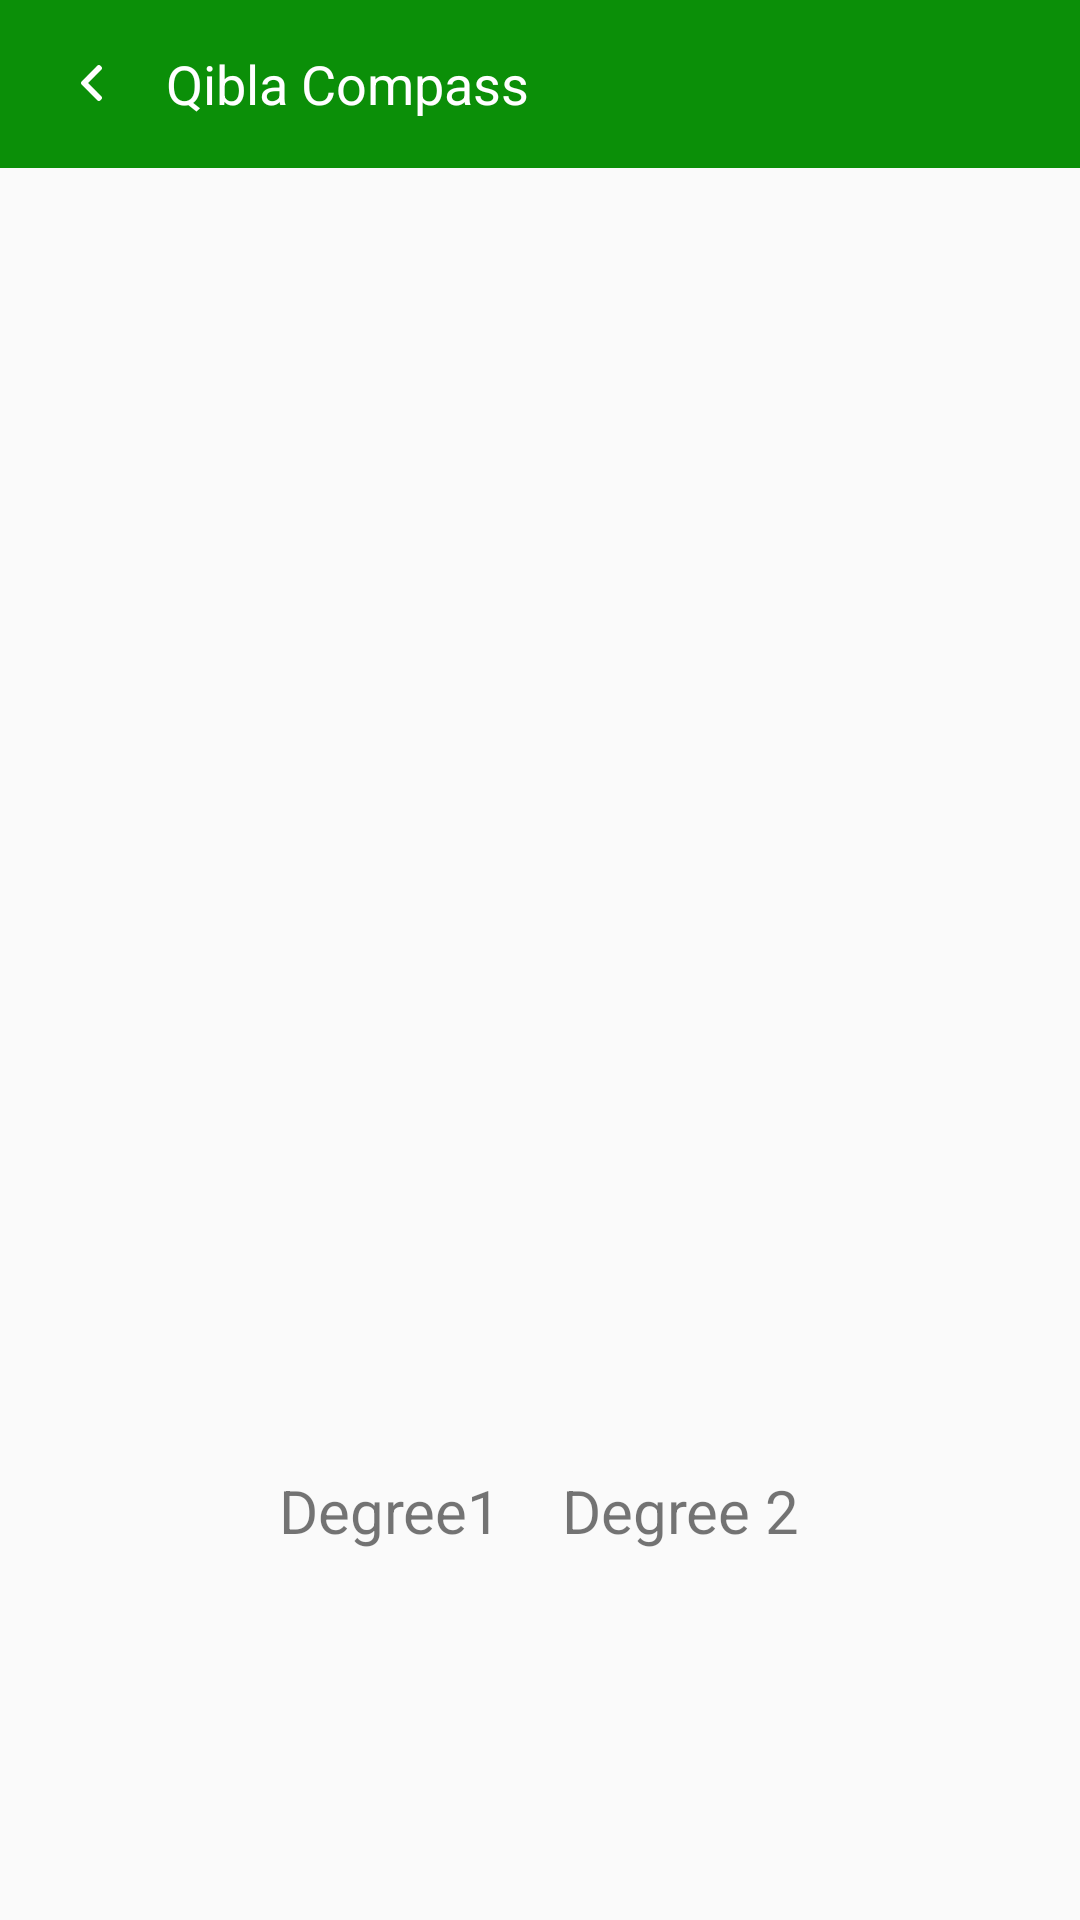

Screen size 1080 × 1920. Icon name, then its box in pixels as (x1, y1, x2, y2):
back: (81, 65, 102, 101)
